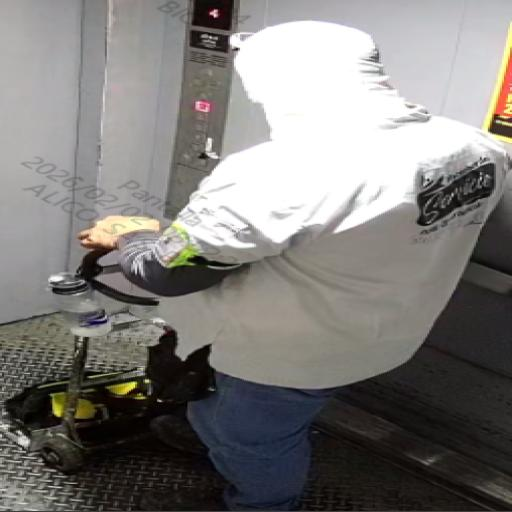persona: (40, 8, 512, 512)
